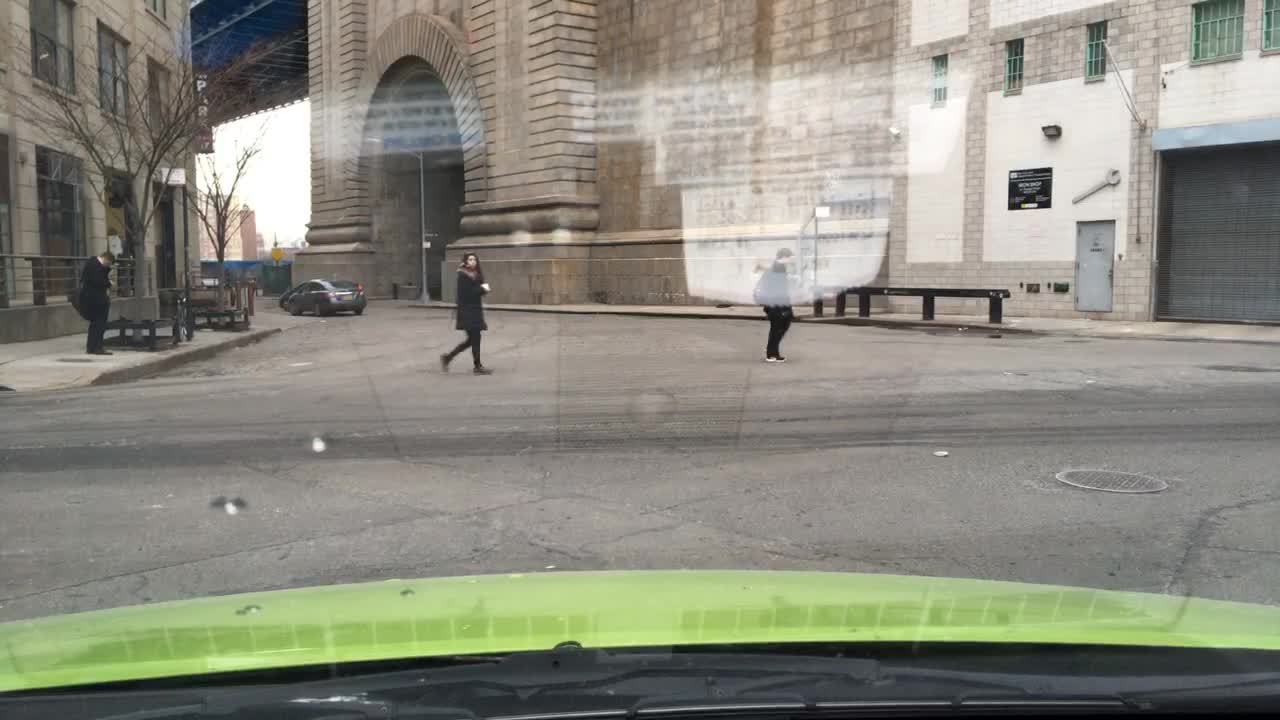car: (288, 278, 367, 315), (278, 282, 310, 308)
person: (438, 250, 490, 374), (70, 248, 119, 355), (753, 245, 795, 364)
traffic sign: (270, 245, 285, 263)
